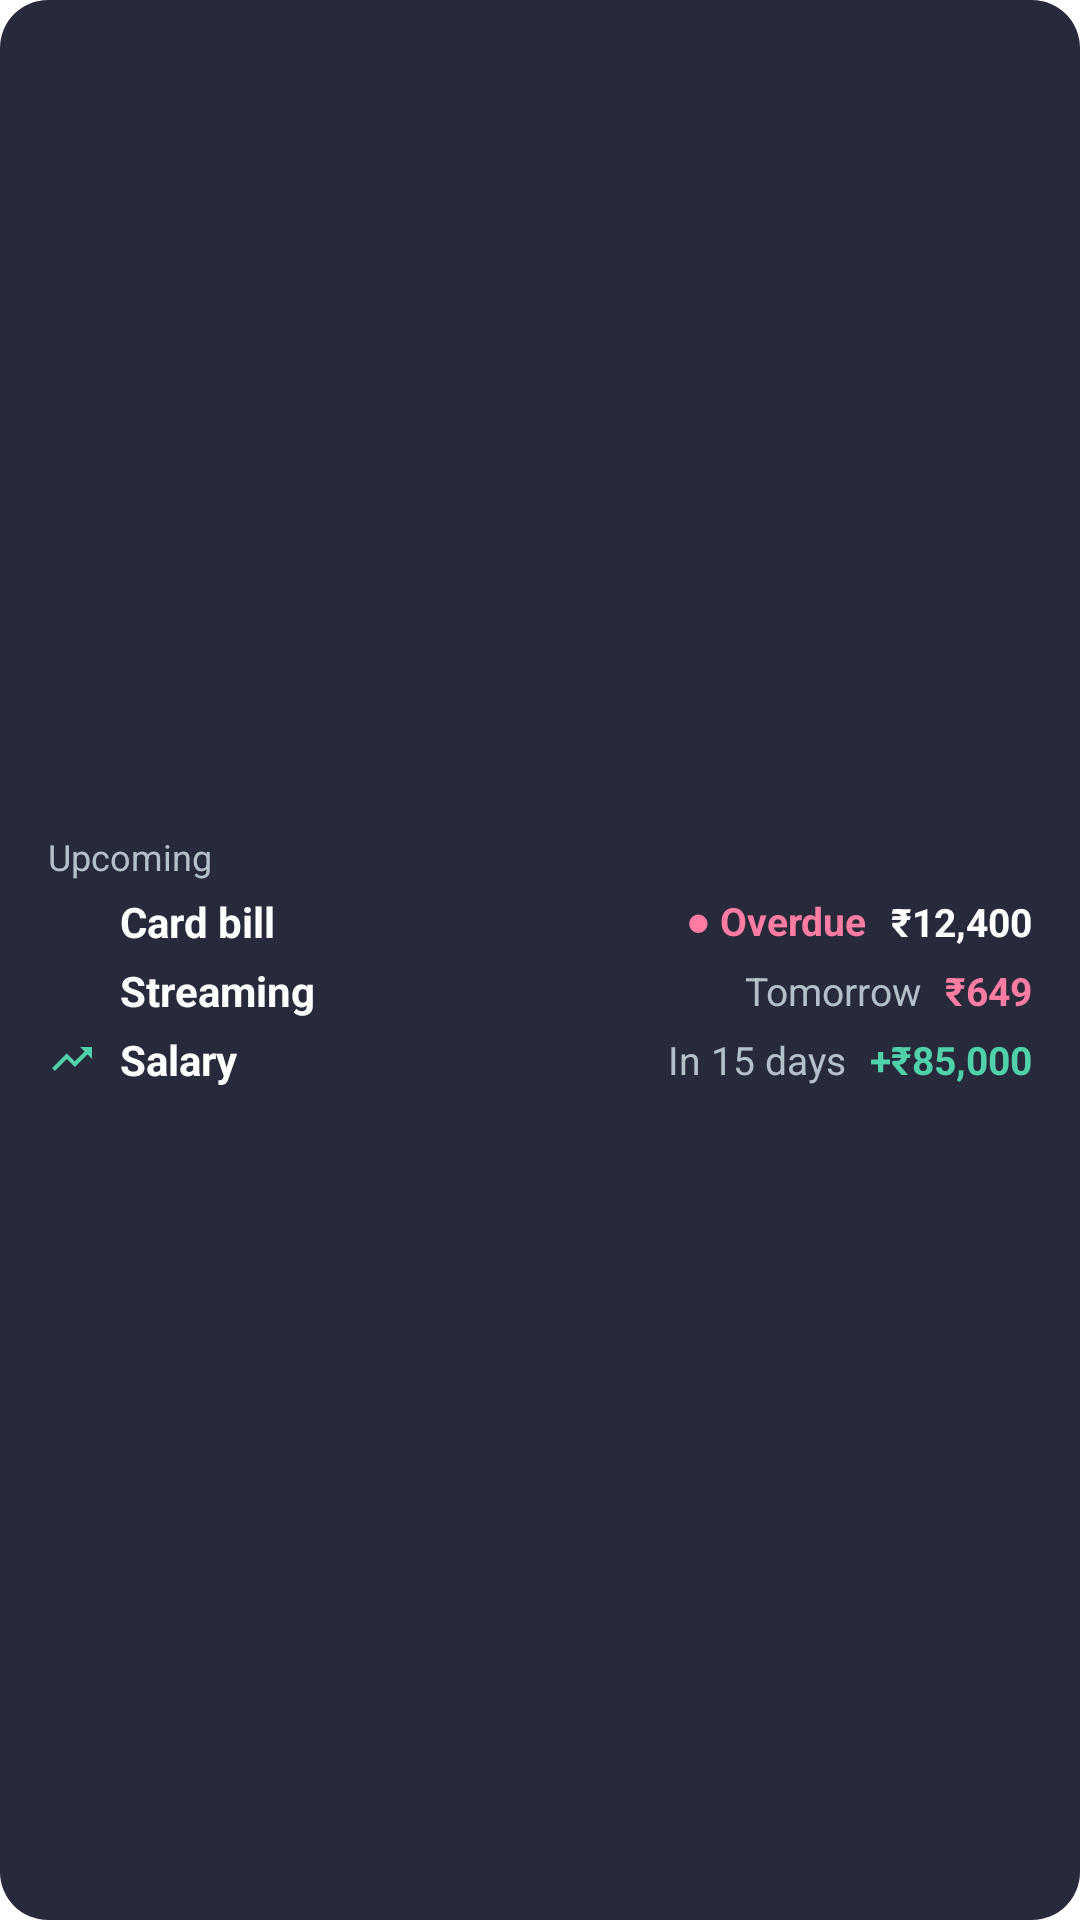

Locate icon controls on the screen. Image size 1080w x 1920h, boxes as (x1, y1, x2, y2).
widget income: (52, 1047, 92, 1071)
